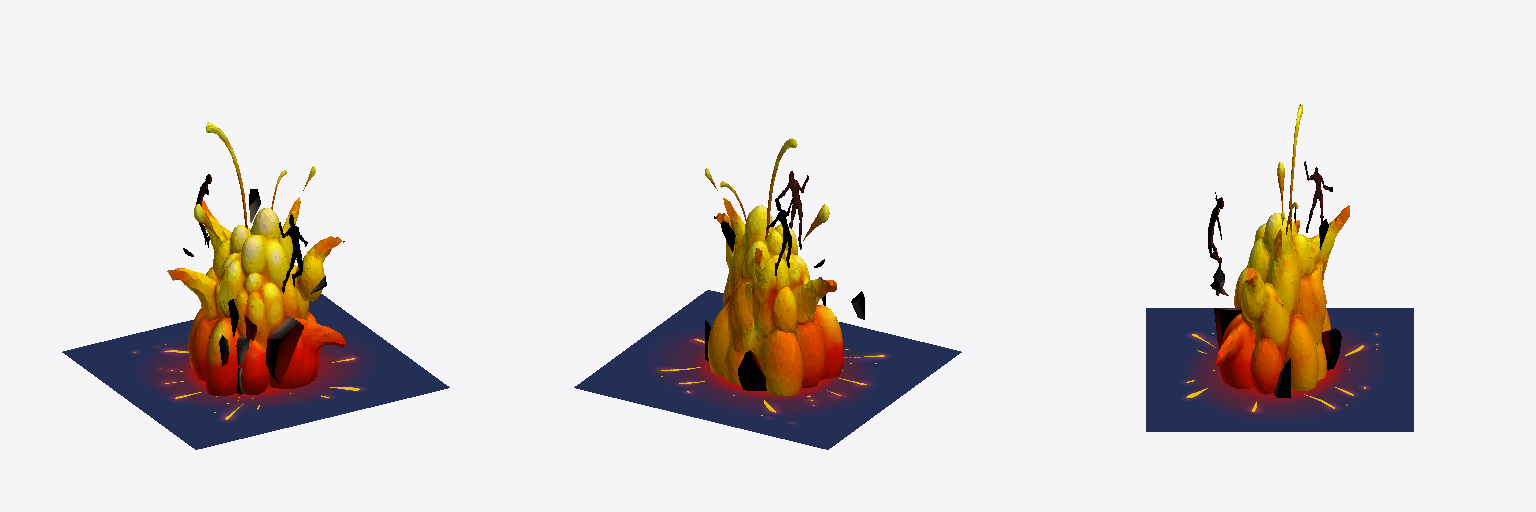
3 views of the same model, side by side, from view 1: azimuth 30°, elevation 25°; view 2: azimuth 150°, elevation 25°; view 3: azimuth 270°, elevation 25° (orthographic).
Visible parts, largest first — view 1: Cube.002_Cube.006; view 2: Cube.002_Cube.006; view 3: Cube.002_Cube.006.
Boxes of the visible parts, <box> form: Cube.002_Cube.006: <box>62,122,449,449</box>; Cube.002_Cube.006: <box>574,138,961,449</box>; Cube.002_Cube.006: <box>1146,104,1413,431</box>.
Bounding box in the file's own units: 1.81 × 1.82 × 1.65.
1 materials, 1 textured.